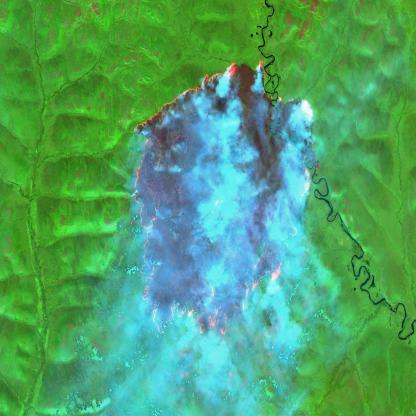fire: (125, 58, 324, 341)
